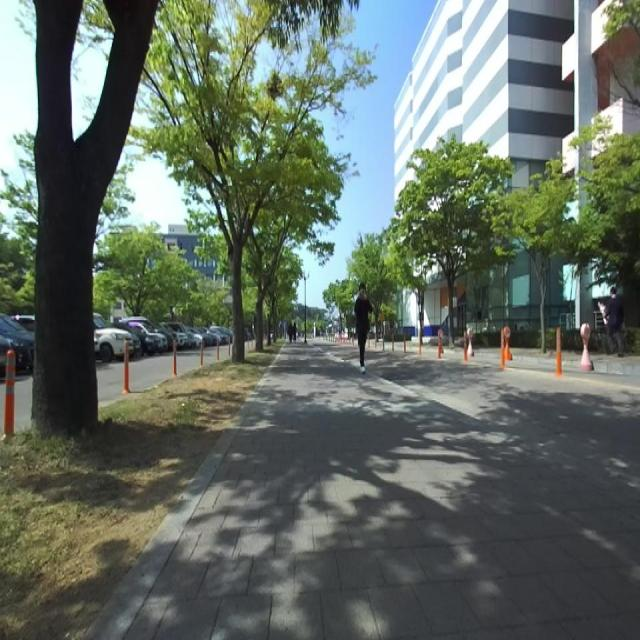sidewalk: (121, 344, 640, 640)
